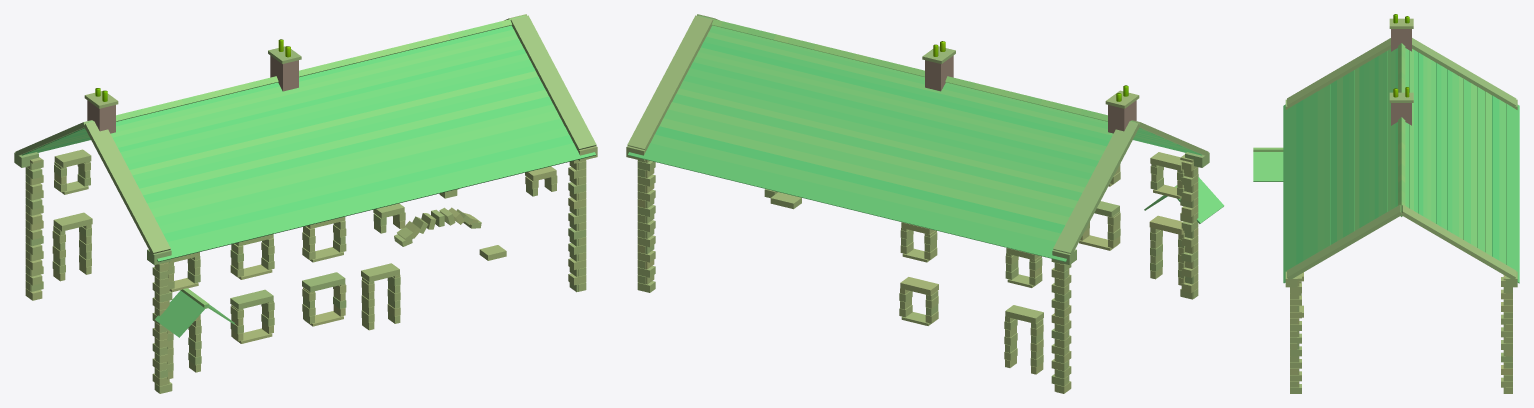
File: SM_Bld_008_Stone.glb
3 renders of one model, left to right at view 1: azimuth 30°, elevation 25°; view 2: azimuth 150°, elevation 25°; view 3: azimuth 270°, elevation 25°, orthographic. The views are drawn at different scales.
Parts seen in each view (by area): view 1: SM_Bld_008_Stone; view 2: SM_Bld_008_Stone; view 3: SM_Bld_008_Stone.
Boxes of the visible parts, left/top/right/bottom form: SM_Bld_008_Stone: left=14, top=14, right=597, bottom=393; SM_Bld_008_Stone: left=626, top=14, right=1224, bottom=393; SM_Bld_008_Stone: left=1253, top=14, right=1519, bottom=393.
Bounding box in the file's own units: 18.3 × 10.06 × 11.51.
